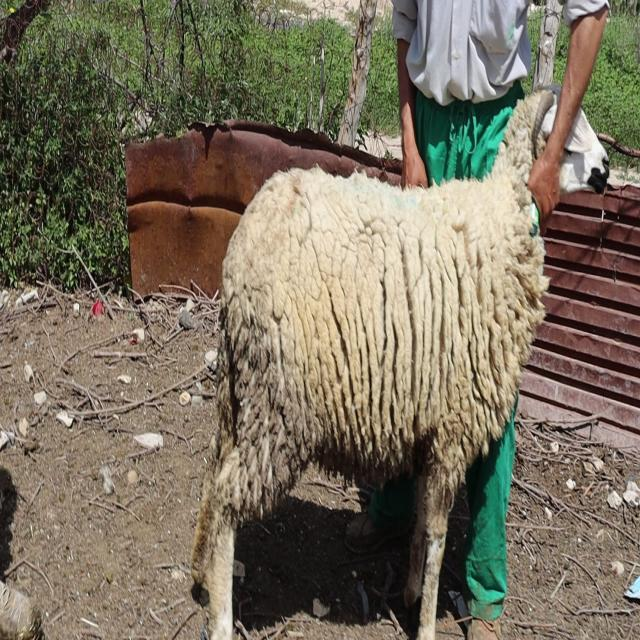Score_3: (191, 85, 560, 639)
